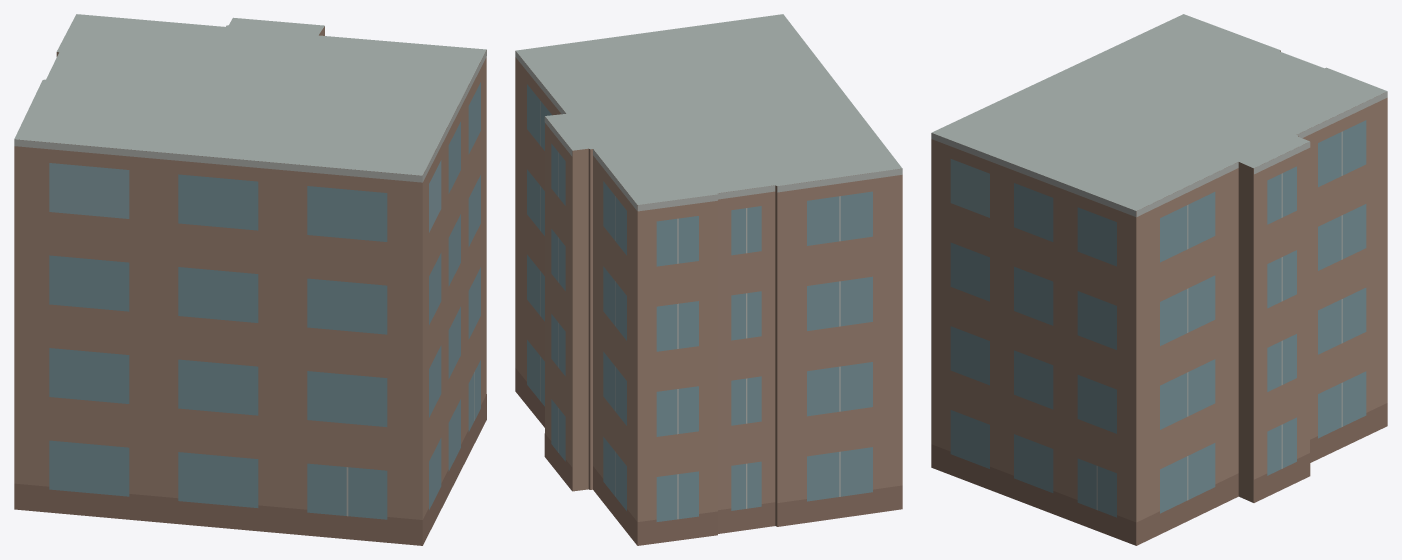
The model's file is survey-upis-32525867.glb.
3 views of the same model, side by side, from view 1: azimuth 30°, elevation 25°; view 2: azimuth 150°, elevation 25°; view 3: azimuth 270°, elevation 25° (orthographic). The views are drawn at different scales.
Parts seen in each view (by area): view 1: survey-upis-32525867.tmp; view 2: survey-upis-32525867.tmp; view 3: survey-upis-32525867.tmp.
Boxes of the visible parts, bbox=[...] form: survey-upis-32525867.tmp: bbox=[14, 14, 486, 545]; survey-upis-32525867.tmp: bbox=[515, 14, 902, 545]; survey-upis-32525867.tmp: bbox=[931, 14, 1387, 545].
Bounding box in the file's own units: 16.62 × 13.16 × 16.27.
